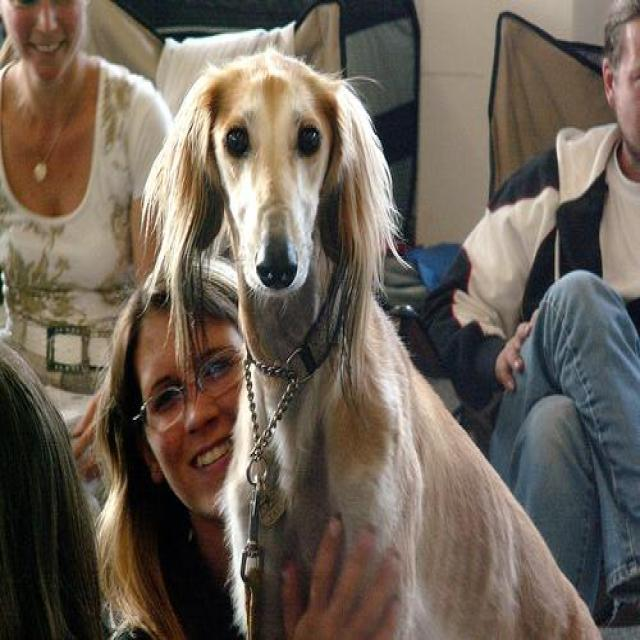saluki: (138, 48, 604, 638)
